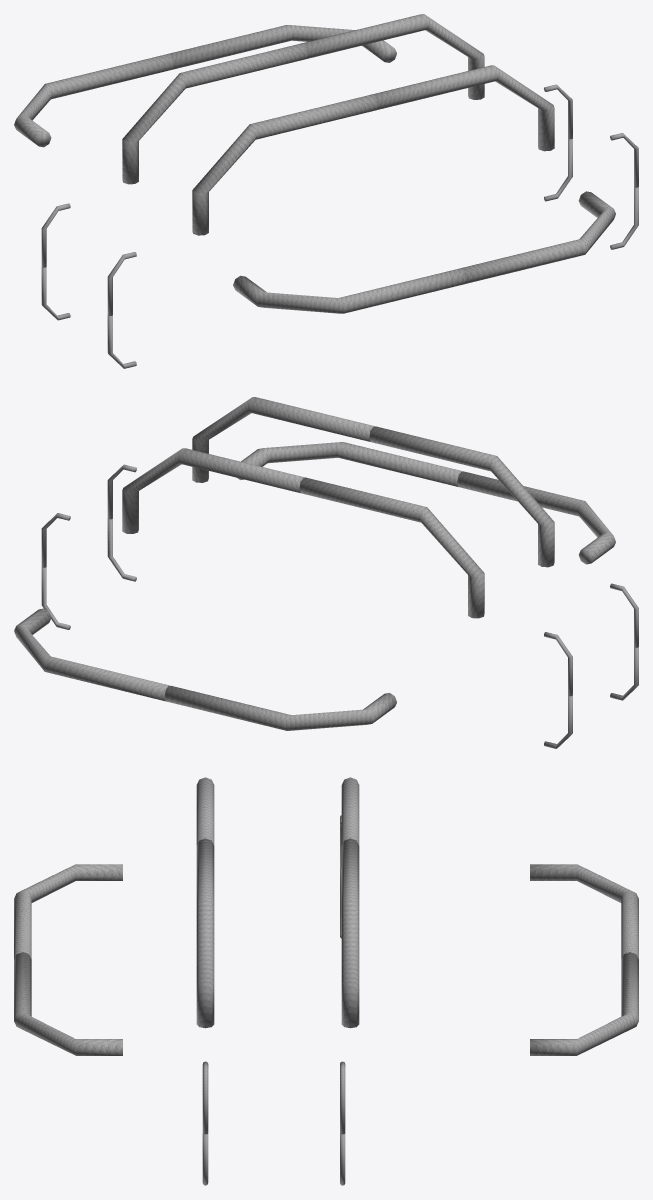
The model's file is gas_pipes.obj.
The picture shows the model from 3 angles, top to bottom: view 1: azimuth 30°, elevation 25°; view 2: azimuth 150°, elevation 25°; view 3: azimuth 270°, elevation 25°; orthographic projection. The views are drawn at different scales.
Parts seen in each view (by area): view 1: Cylinder.004; view 2: Cylinder.004; view 3: Cylinder.004.
Part boxes in pixels (x1,y1,x2,y2): Cylinder.004: (14, 14, 638, 368); Cylinder.004: (14, 397, 638, 748); Cylinder.004: (14, 777, 638, 1185).
Bounding box in the file's own units: 20.4 × 7.83 × 20.07.
1 material, 1 textured.
